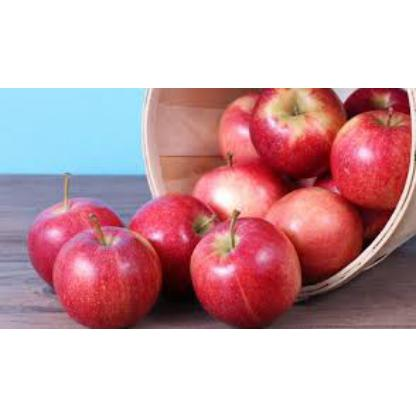apple: (204, 220, 294, 326), (57, 221, 151, 308), (252, 88, 336, 164), (134, 186, 200, 262), (292, 188, 360, 256), (206, 162, 272, 210), (41, 198, 93, 256)
